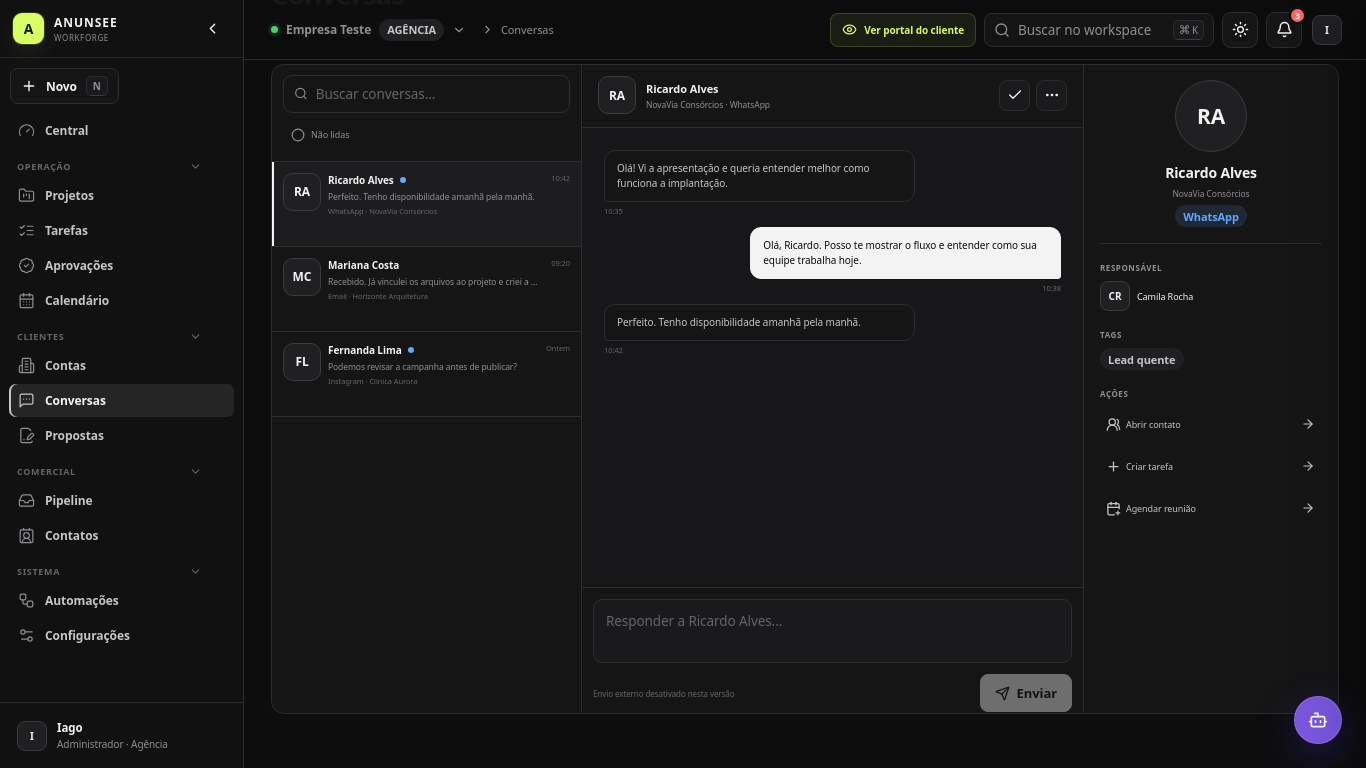
Test: core interactions › sends and persists a local conversation message
(page scrolled)
Type "Mensagem de acompanhamento" into the text box with placeholder "Responder a Ricardo Alves...".
click(832, 631); type("Mensagem de acompanhamento")  # box [593, 599, 1072, 663]
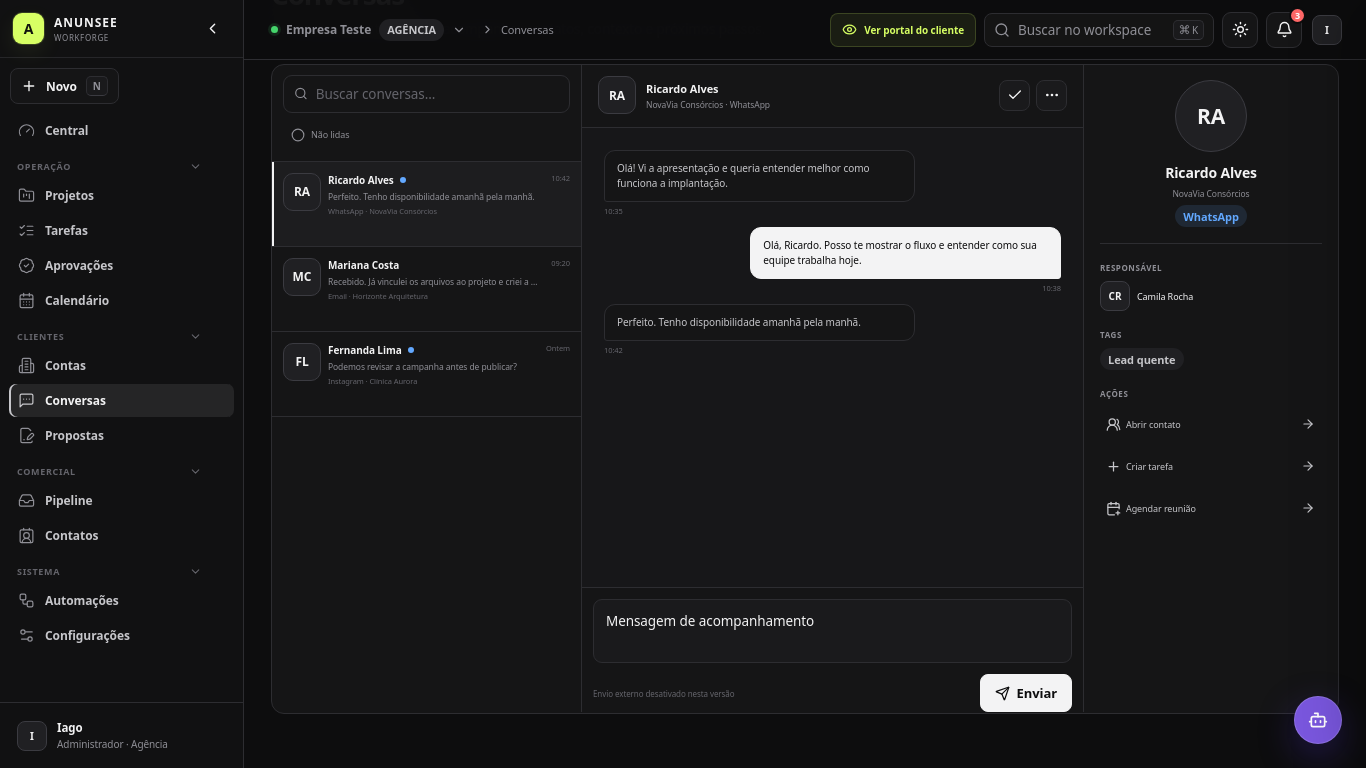
Click the button "Enviar".
click(1026, 693)  # box [980, 674, 1072, 712]
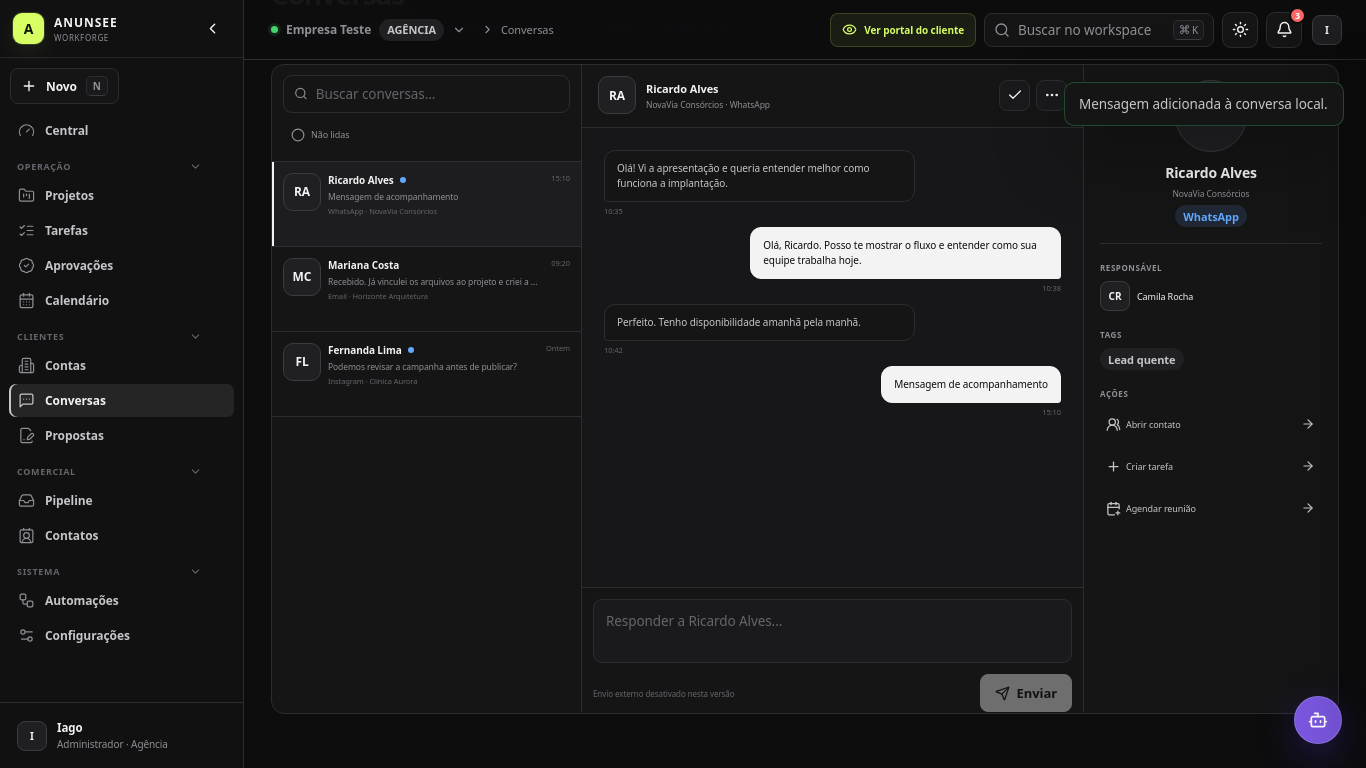
Check: the text "Mensagem de acompanhamento" below "10:42" is shown, box [894, 377, 1048, 391]
